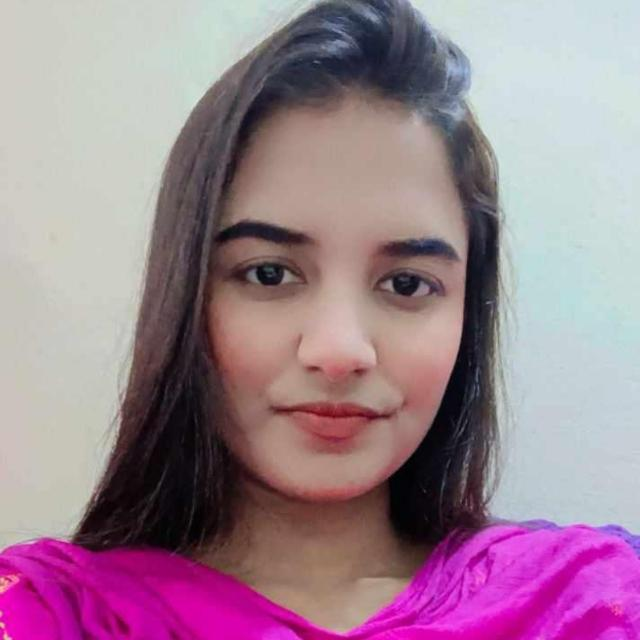Natural: (56, 58, 585, 595)
